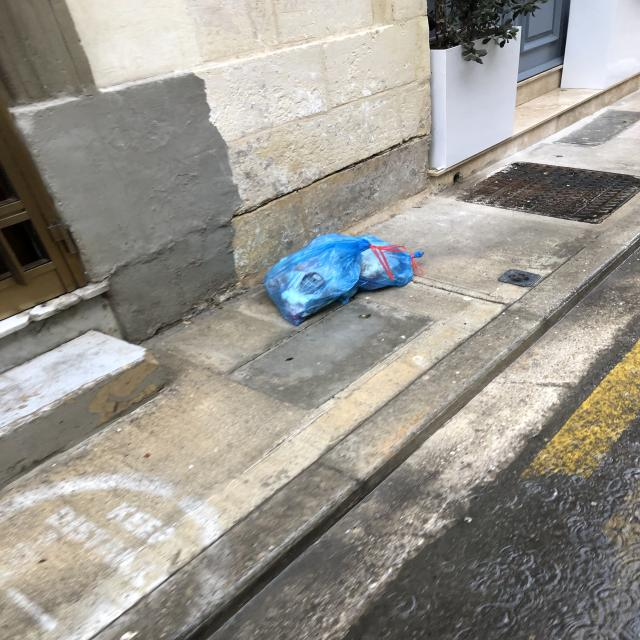Other: (263, 228, 374, 327), (340, 232, 420, 293)
